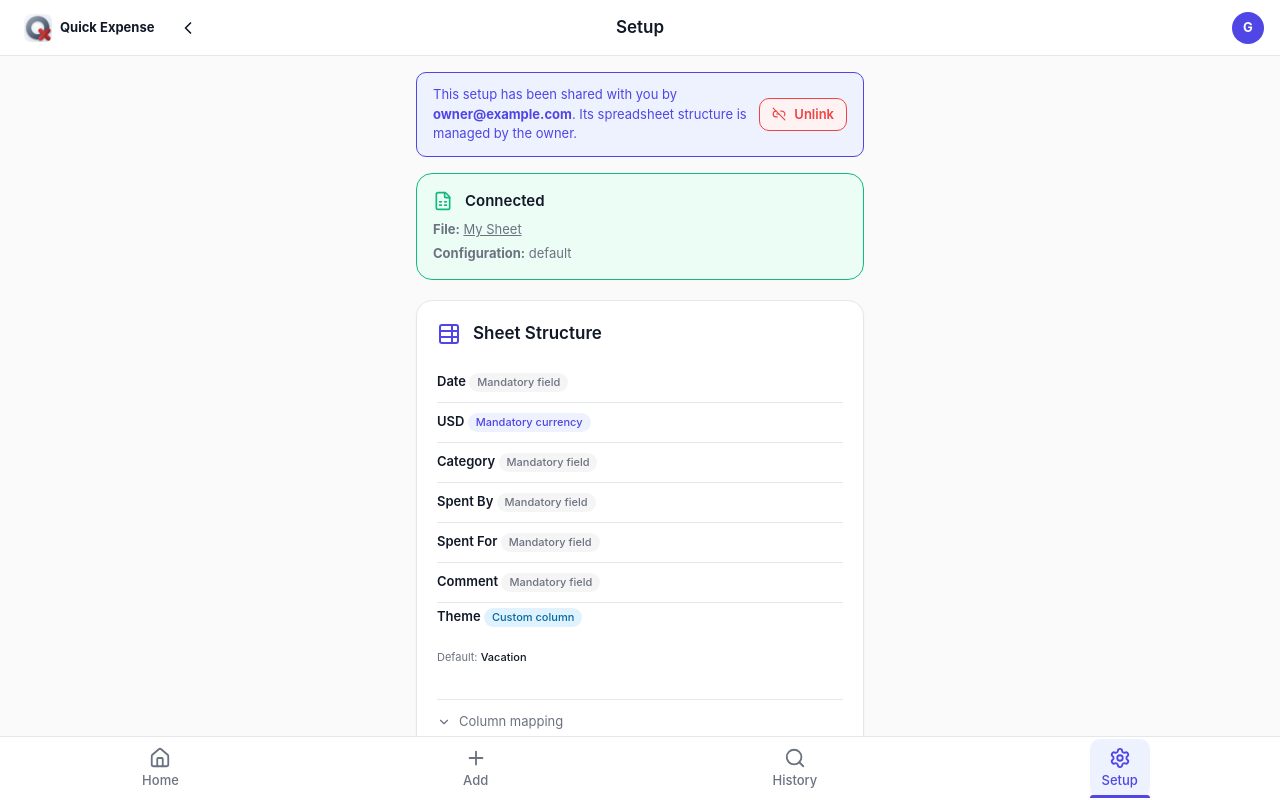
Test case: SetupPage — guest unlink › shows Edit guests a management hint for hidden defaults without mutation actions
expect the text "Vacation" is shown: met, box left=481, top=650, right=526, bottom=664
Click the button with aria-label "Default value for Theme: Vacation": (482, 657) left=437, top=635, right=527, bottom=679
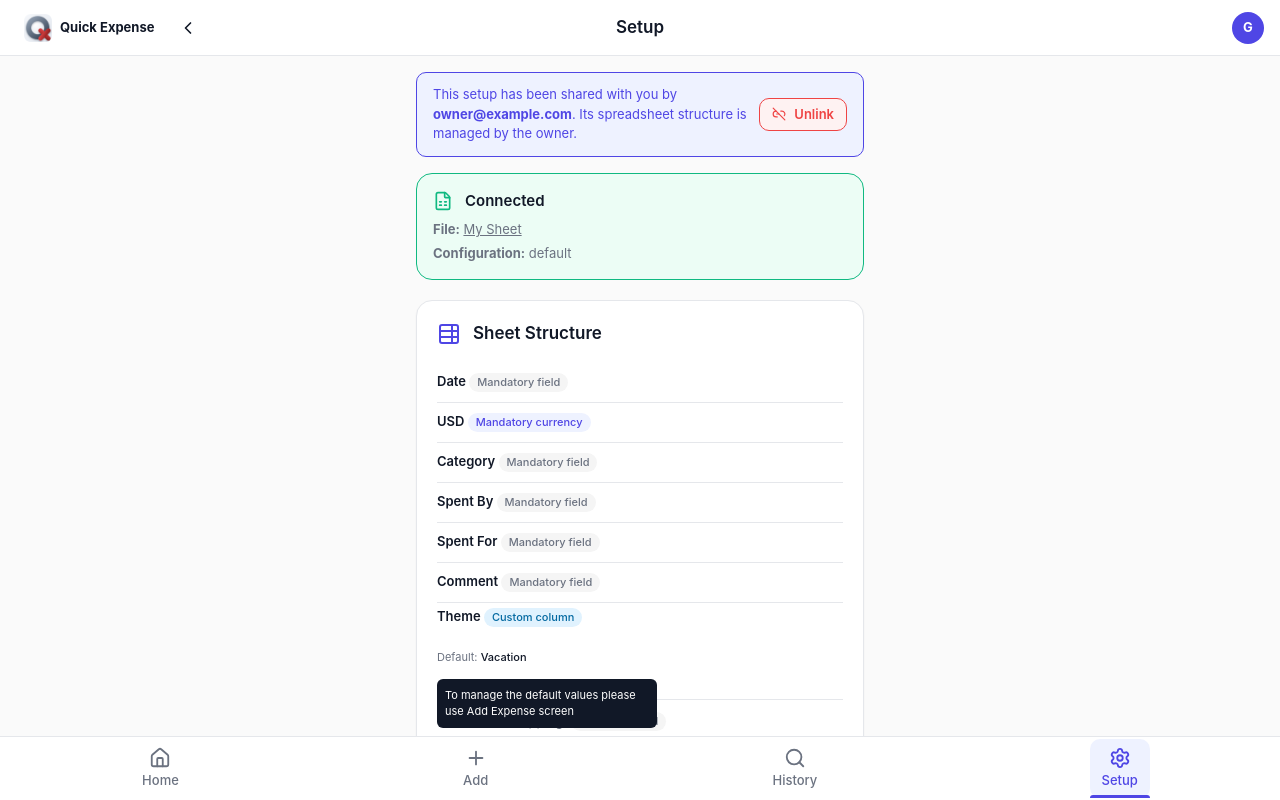
expect the tooltip reads "To manage the default values please use Add Expense screen": met, box left=445, top=688, right=636, bottom=718
